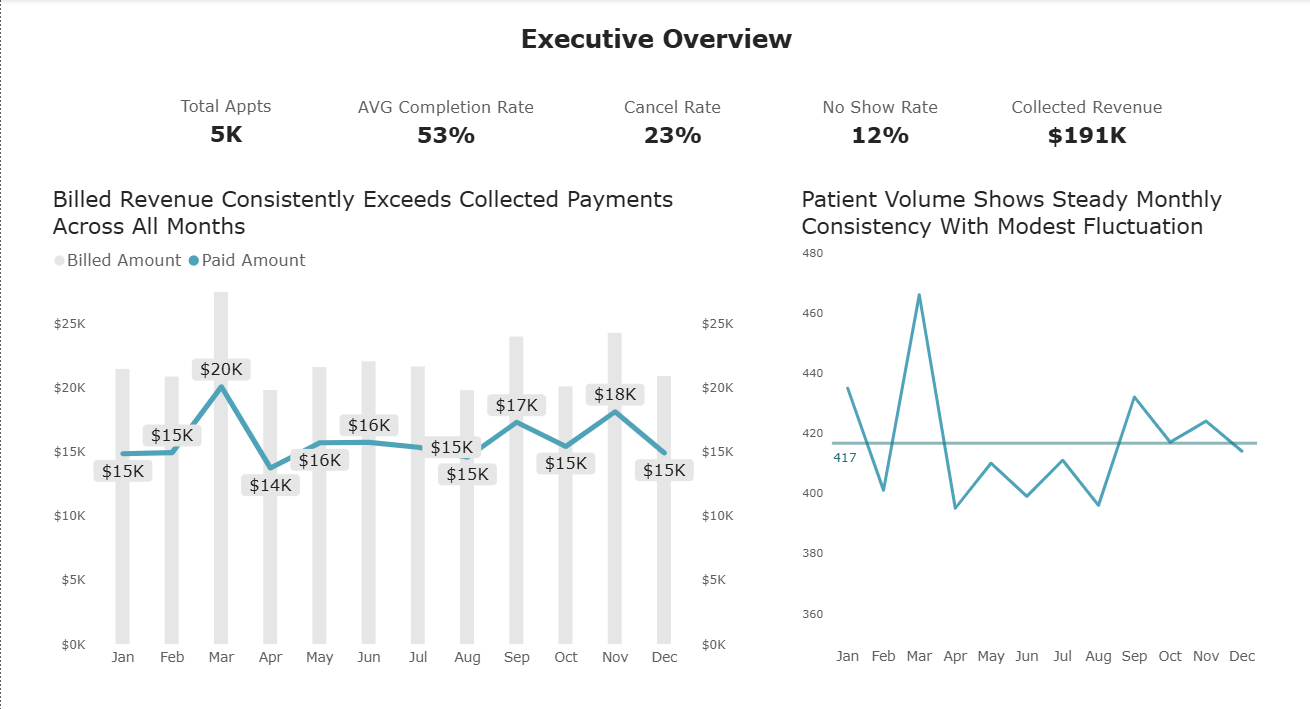

What the dashboard file says about the page in this screenshot:
{"tool":"powerbi","page":{"name":"exec-overview","canvas":[1280,720],"ordinal":0},"visuals":[{"type":"group","id":"g1","title":"Group 1","box":[107.1,68.8,1069,102.4],"z":0},{"type":"lineChart","title":"Patient Volume Shows Steady Monthly Consistency With Modest Fluctuation","fields":{"Y":["appointments.Total Appointments"],"Category":["appointments.Month"]},"box":[772.9,171.5,465.7,494.3],"z":0,"group":"g2"},{"type":"textbox","box":[466.7,13.3,348,56],"z":1000},{"type":"group","id":"g2","title":"Group 2","box":[40.9,170.9,1197.7,494.9],"z":2000},{"type":"lineStackedColumnComboChart","title":"Billed Revenue Consistently Exceeds Collected Payments Across All Months","fields":{"Y":["Sum(claims.billed_amount)"],"Y2":["Sum(claims.paid_amount)"],"Category":["appointments.Month"]},"box":[40.9,170.9,686.7,494.7],"z":2000,"group":"g2"},{"type":"cardVisual","fields":{"Data":["appointments.Total Appointments"]},"box":[107.1,68.8,225.7,101.4],"z":3000,"group":"g1"},{"type":"cardVisual","fields":{"Data":["appointments.Cancelled %"]},"box":[542.2,69.5,228.5,101.7],"z":4000,"group":"g1"},{"type":"cardVisual","fields":{"Data":["appointments.No Show Rate %"]},"box":[759.5,69.5,199.2,101.7],"z":5000,"group":"g1"},{"type":"cardVisual","fields":{"Data":["appointments.Completed %"]},"box":[317.9,69.5,235.4,101.7],"z":6000,"group":"g1"},{"type":"cardVisual","fields":{"Data":["appointments.Collected Revenue"]},"box":[949,69.5,227.1,101.7],"z":7000,"group":"g1"}]}

Visuals, with their boxes on the page's 1280x720 design canvas (x1, y1, x2, y2). These are canvas units, not pixel positions in the 1310x709 screenshot, which may show the page scaled, cropped or inside an application window:
"Group 1" group: x1=107, y1=69, x2=1176, y2=171
"Patient Volume Shows Steady Monthly Consistency With Modest Fluctuation" lineChart: x1=773, y1=172, x2=1239, y2=666
textbox: x1=467, y1=13, x2=815, y2=69
"Group 2" group: x1=41, y1=171, x2=1239, y2=666
"Billed Revenue Consistently Exceeds Collected Payments Across All Months" lineStackedColumnComboChart: x1=41, y1=171, x2=728, y2=666
cardVisual - appointments.Total Appointments: x1=107, y1=69, x2=333, y2=170
cardVisual - appointments.Cancelled %: x1=542, y1=70, x2=771, y2=171
cardVisual - appointments.No Show Rate %: x1=760, y1=70, x2=959, y2=171
cardVisual - appointments.Completed %: x1=318, y1=70, x2=553, y2=171
cardVisual - appointments.Collected Revenue: x1=949, y1=70, x2=1176, y2=171
